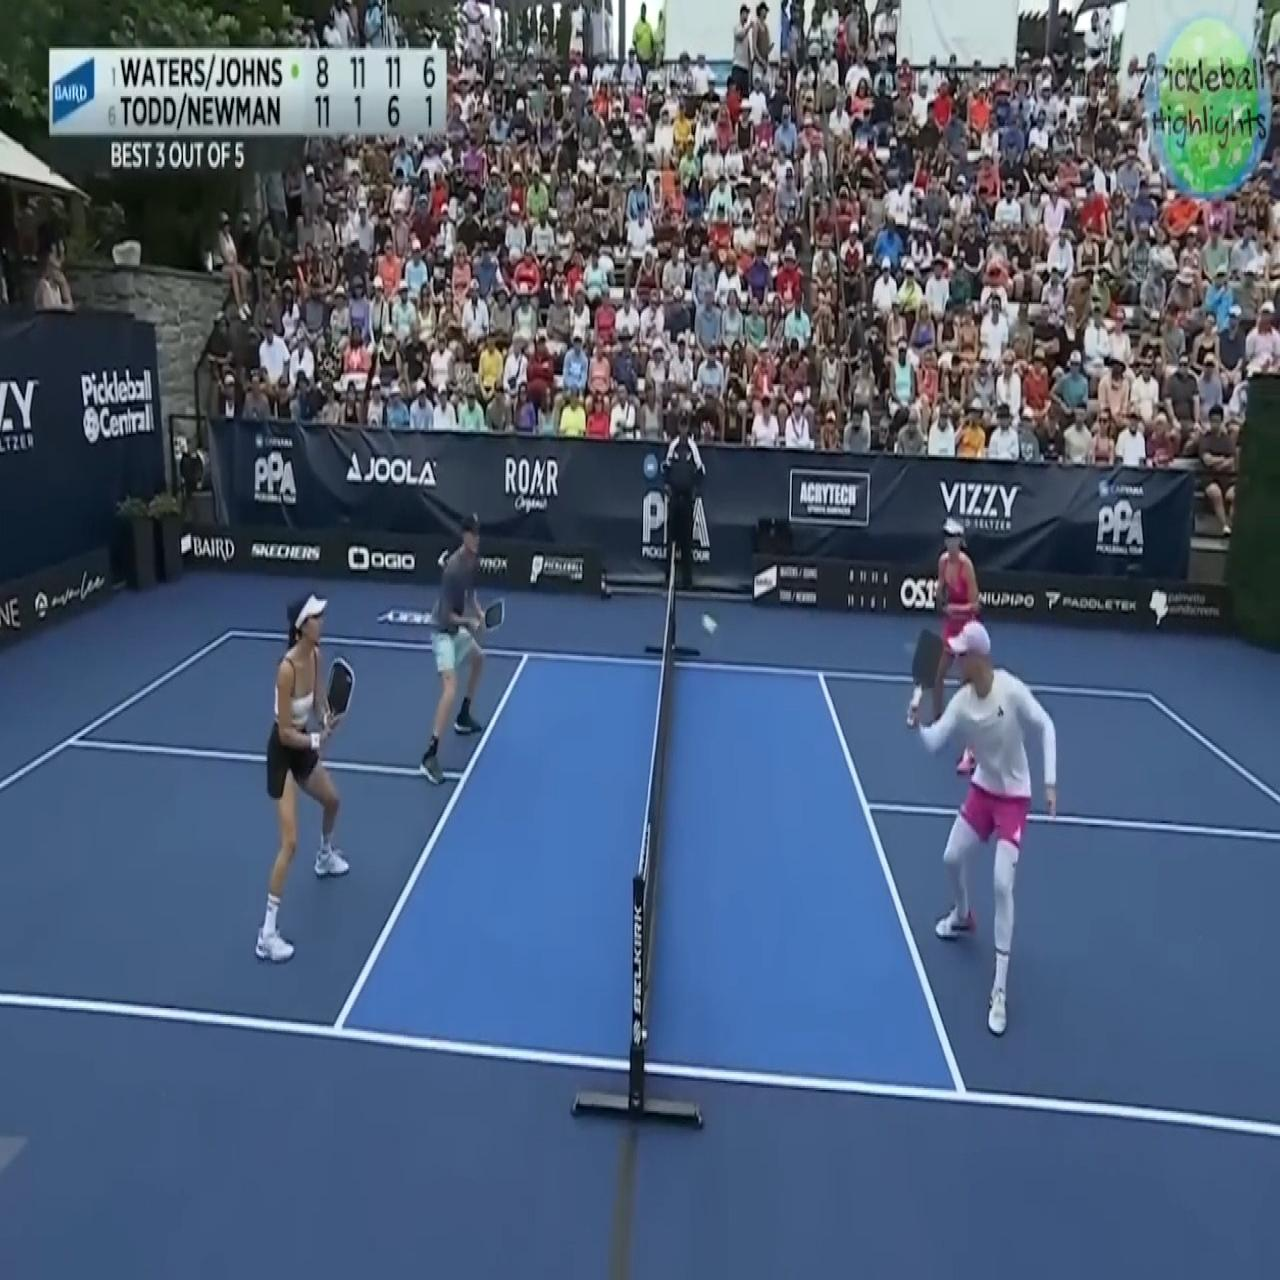Pickleball: (699, 606, 719, 636)
